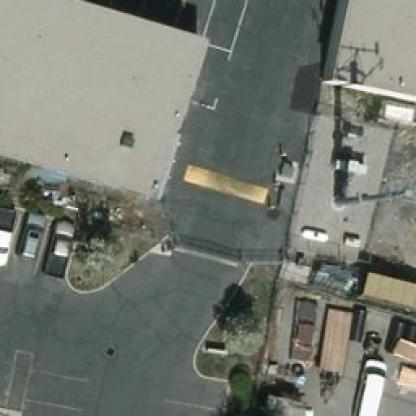car: (354, 354, 384, 414), (43, 213, 72, 273), (18, 211, 44, 263), (0, 193, 15, 270)
